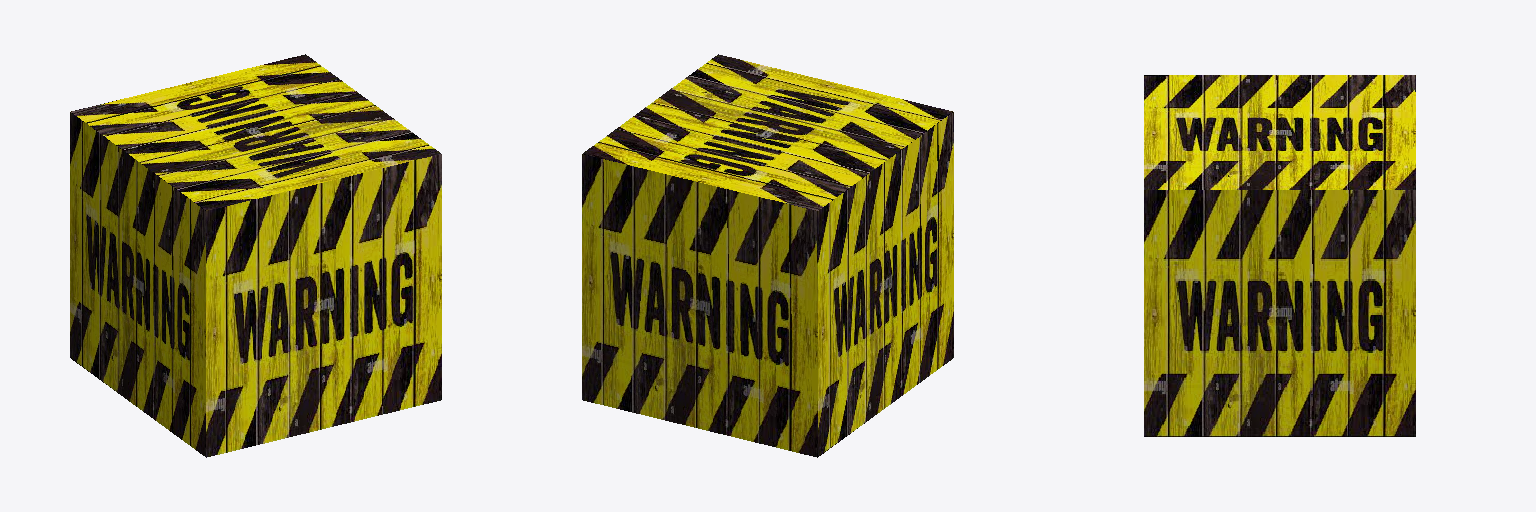
3 renders of one model, left to right at view 1: azimuth 30°, elevation 25°; view 2: azimuth 150°, elevation 25°; view 3: azimuth 270°, elevation 25°, orthographic.
Visible parts, largest first — view 1: Cubo; view 2: Cubo; view 3: Cubo.
Part boxes in pixels (bbox=[...]): Cubo: bbox=[70, 54, 441, 457]; Cubo: bbox=[582, 54, 953, 457]; Cubo: bbox=[1144, 75, 1415, 436].
Bounding box in the file's own units: 2 × 2 × 2.
Materials: 1 (1 with a texture image).